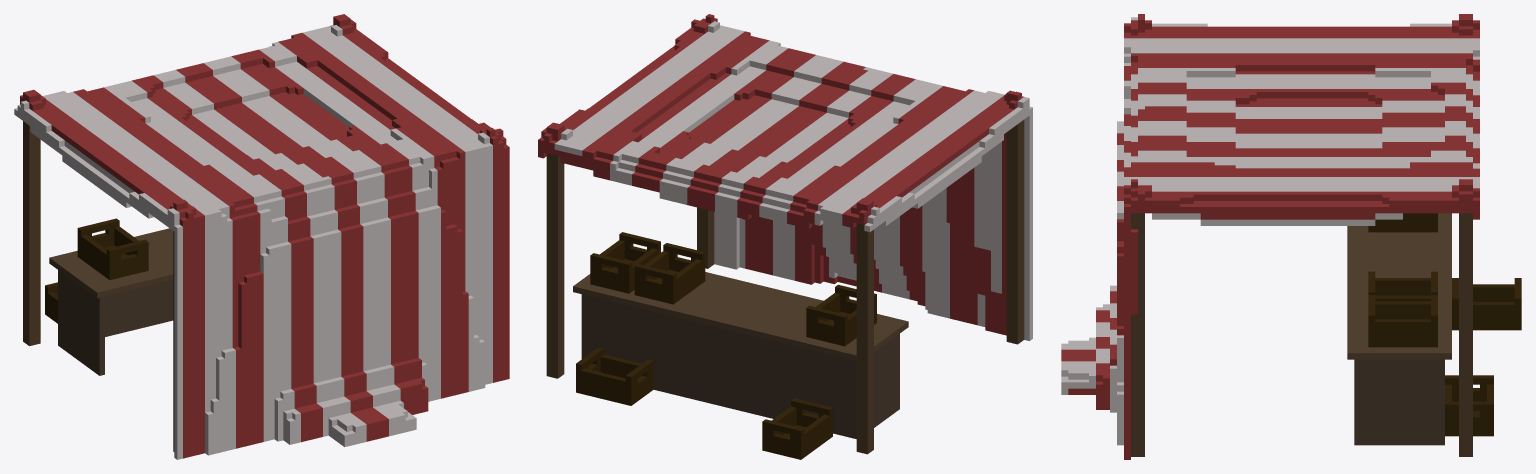
Rendered from Stand 01.obj.
3 views of the same model, side by side, from view 1: azimuth 30°, elevation 25°; view 2: azimuth 150°, elevation 25°; view 3: azimuth 270°, elevation 25° (orthographic). The views are drawn at different scales.
Bounding box in the file's own units: 6 × 4.3 × 6.6.
Materials: 1 (1 with a texture image).
